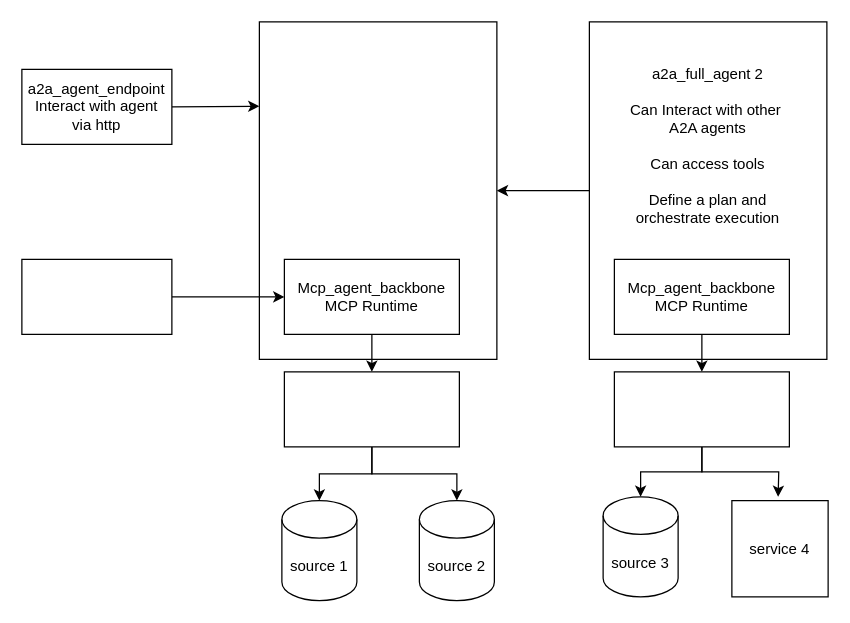
The diagram is 850 pixels wide and 623 high, and some of its shapes have lost their labels. Each missing label, with the box of its shape:
a2a_agent 1 Basic Stand Alone A2A Agent focused on domain 1: (258, 21, 497, 359)
mcp_agent_endpoint interact with MCP runtime via http: (21, 258, 172, 334)
mcp_server 1: (283, 371, 459, 447)
mcp_server 2: (613, 371, 789, 447)
